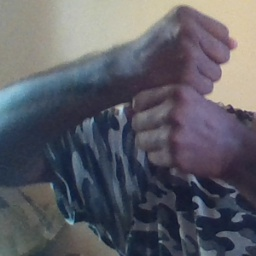G: (136, 3, 239, 180)
